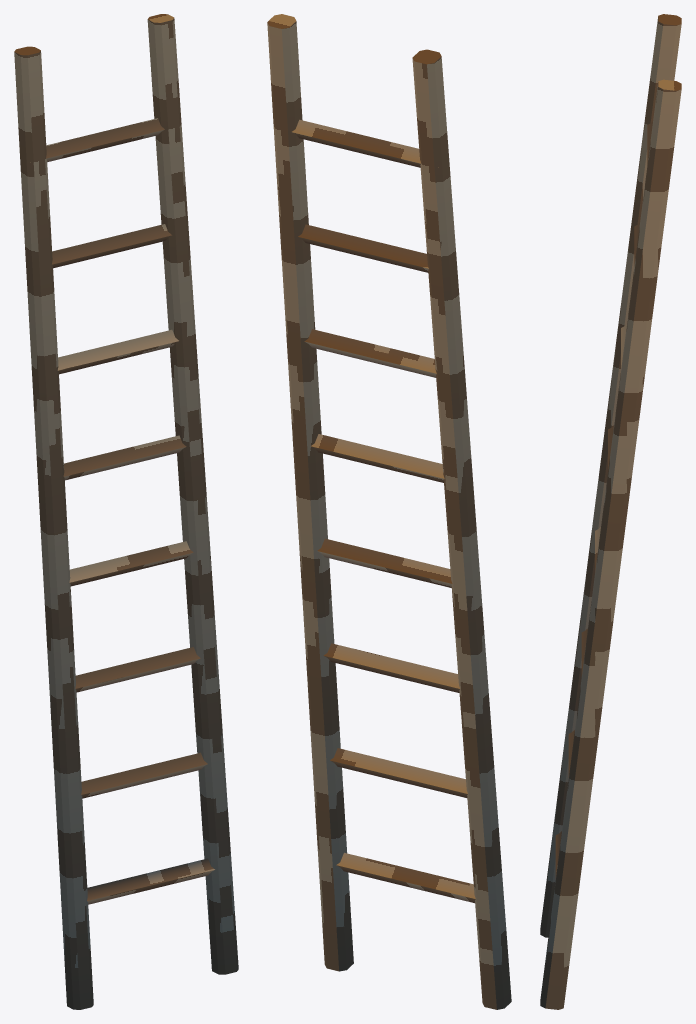
File: wmine.ladder.glb
The picture shows the model from 3 angles, left to right: view 1: azimuth 30°, elevation 25°; view 2: azimuth 150°, elevation 25°; view 3: azimuth 270°, elevation 25°; orthographic projection. The views are drawn at different scales.
Visible parts, largest first — view 1: kit_poles, kit_rungs; view 2: kit_poles, kit_rungs; view 3: kit_poles, kit_rungs.
Boxes of the visible parts, x1,y1,x2,y2 form: kit_poles: (14, 14, 238, 1009); kit_rungs: (30, 118, 214, 904); kit_poles: (267, 14, 511, 1009); kit_rungs: (274, 119, 475, 903); kit_poles: (540, 14, 681, 1009); kit_rungs: (555, 121, 666, 878).
Bounding box in the file's own units: 0.57 × 3.01 × 0.4196.
2 materials, 2 textured.
